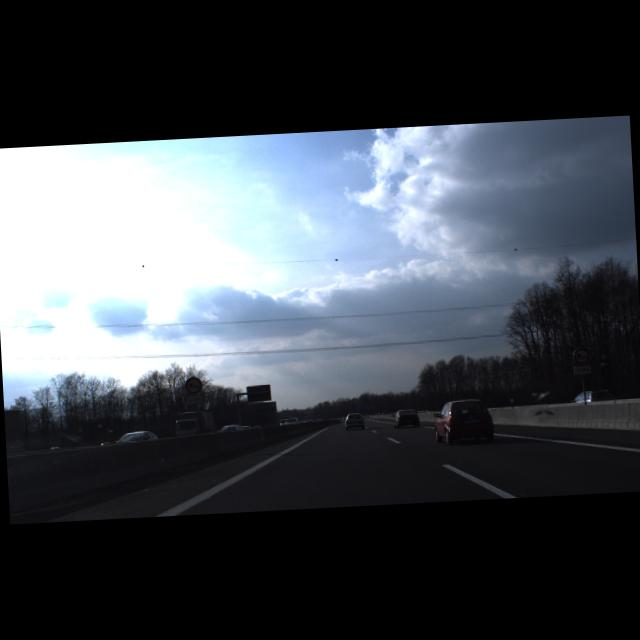prohibitory: (572, 346, 591, 366), (184, 376, 203, 395)
